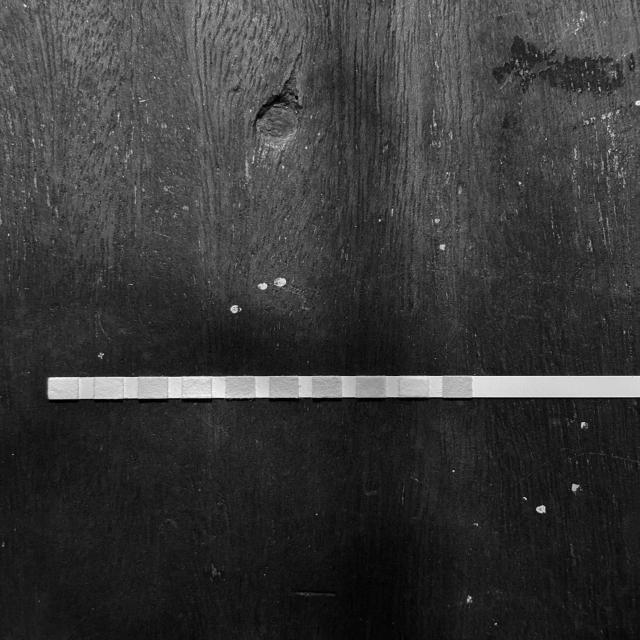Bilirubin: (400, 377, 429, 397)
Blood: (270, 377, 299, 398)
Glucose: (443, 377, 472, 397)
Ketone: (358, 376, 386, 396)
Leukocytes: (48, 379, 78, 398)
Nitrite: (95, 378, 123, 398)
Protein: (183, 378, 213, 397)
SpGravity: (313, 377, 342, 397)
Urobilinogen: (139, 378, 168, 398)
background: (0, 0, 640, 640)
pH: (227, 377, 255, 397)
strip: (47, 376, 640, 399)
